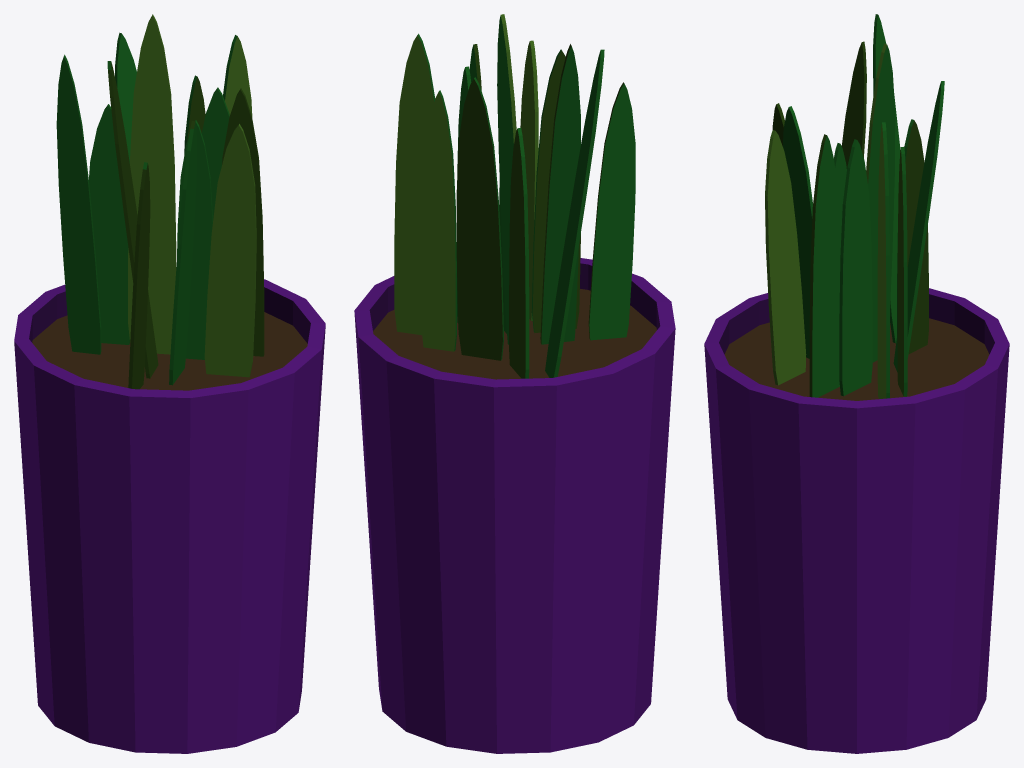
The model's file is Plant3.fbx.
The picture shows the model from 3 angles, left to right: view 1: azimuth 30°, elevation 25°; view 2: azimuth 150°, elevation 25°; view 3: azimuth 270°, elevation 25°; orthographic projection. The views are drawn at different scales.
Parts seen in each view (by area): view 1: Prop_Homeplant_03; view 2: Prop_Homeplant_03; view 3: Prop_Homeplant_03.
Part boxes in pixels (left/top/right/bottom): Prop_Homeplant_03: left=14, top=14, right=325, bottom=753; Prop_Homeplant_03: left=354, top=14, right=675, bottom=753; Prop_Homeplant_03: left=704, top=14, right=1009, bottom=753.
Size of the model in its own units: 20.93 by 49.47 by 20.93.
Materials: 1 (1 with a texture image).
